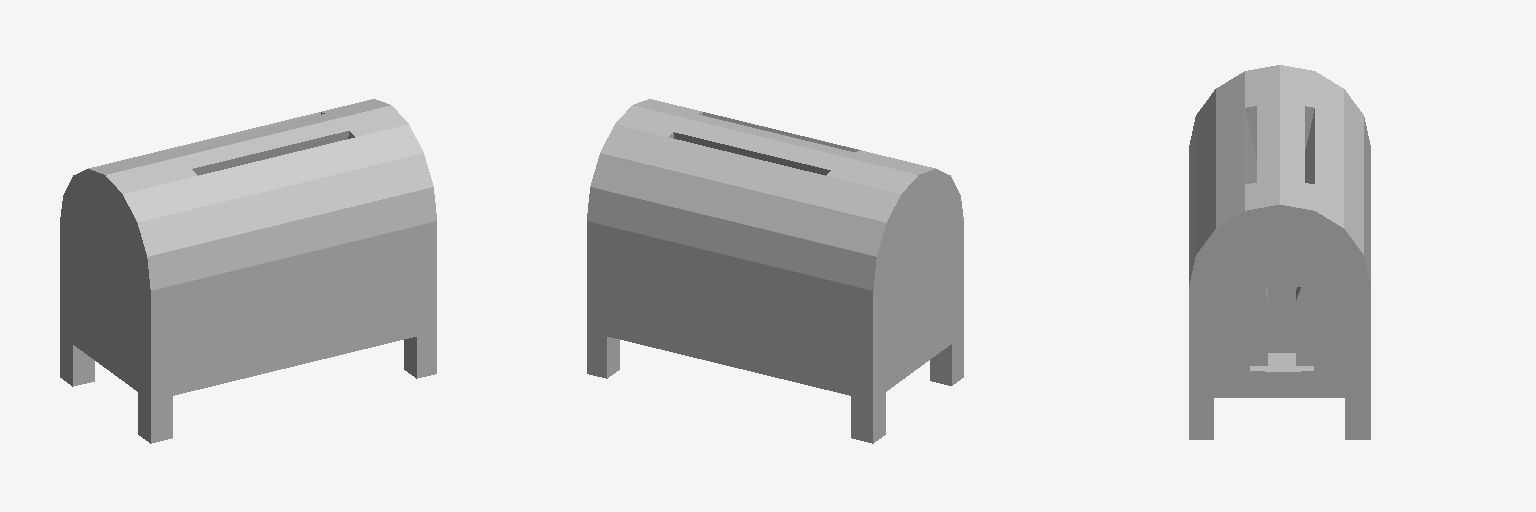
Rendered from tostadora.obj.
3 renders of one model, left to right at view 1: azimuth 30°, elevation 25°; view 2: azimuth 150°, elevation 25°; view 3: azimuth 270°, elevation 25°, orthographic.
Parts seen in each view (by area): view 1: pCube1; view 2: pCube1; view 3: pCube1.
Boxes of the visible parts, x1=… form: pCube1: x1=60, y1=99, x2=436, y2=443; pCube1: x1=587, y1=99, x2=963, y2=443; pCube1: x1=1189, y1=65, x2=1370, y2=439.
Bounding box in the file's own units: 0.9749 × 0.727 × 0.5099.